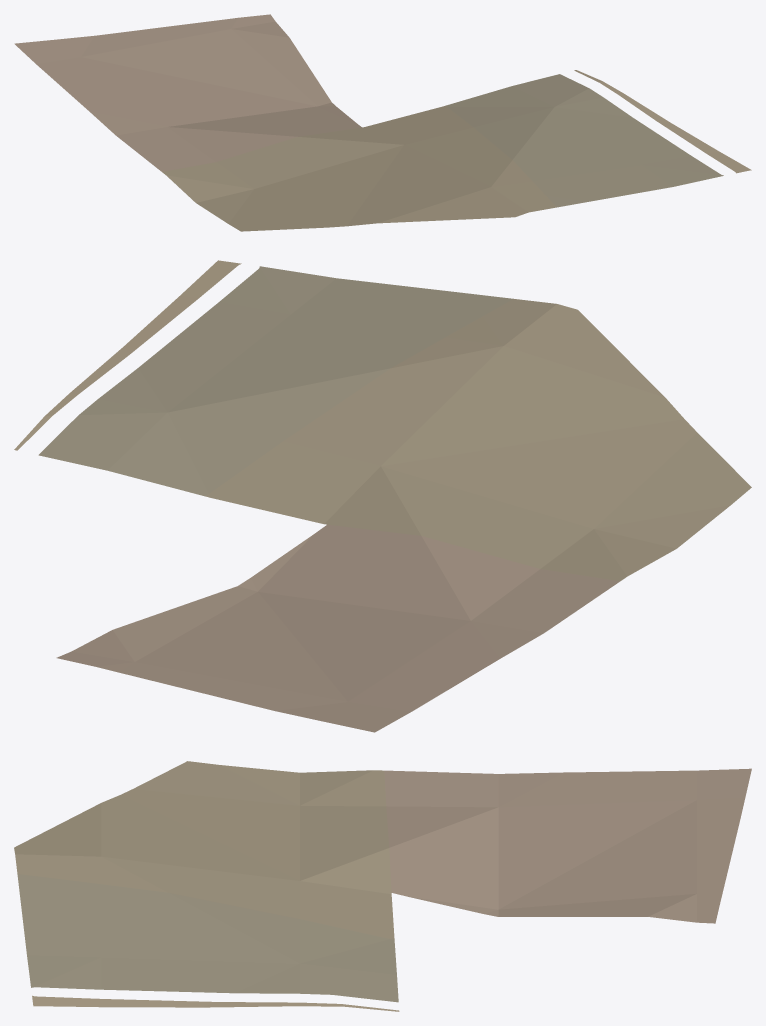
Rendered from farm_0_17_soil.glb.
3 renders of one model, top to bottom at view 1: azimuth 30°, elevation 25°; view 2: azimuth 150°, elevation 25°; view 3: azimuth 270°, elevation 25°, orthographic. The views are drawn at different scales.
Parts seen in each view (by area): view 1: geometry_0; view 2: geometry_0; view 3: geometry_0.
Boxes of the visible parts, x1,y1,x2,y2 form: geometry_0: (14,14,751,231); geometry_0: (14,260,751,732); geometry_0: (14,761,751,1011).
Size of the model in its own units: 236 by 24.65 by 297.
